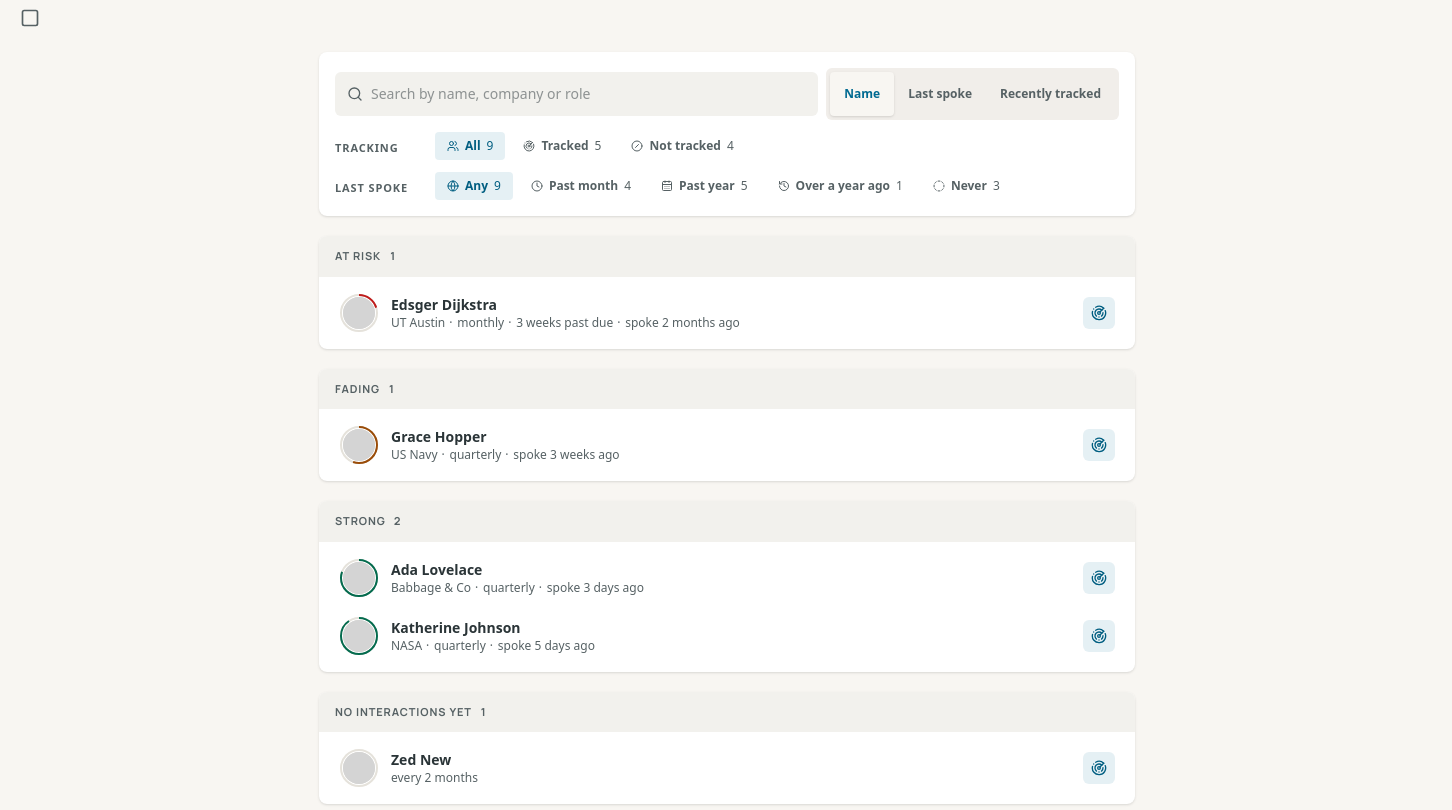
Test case: the Tracked contacts page's filters › orders by Last spoke, and keeps the order in the address
This screenshot has width=1452, height=810.
Click the radio button labelled "Last spoke" at (940, 94), box [894,72,986,116]
(page scrolled)
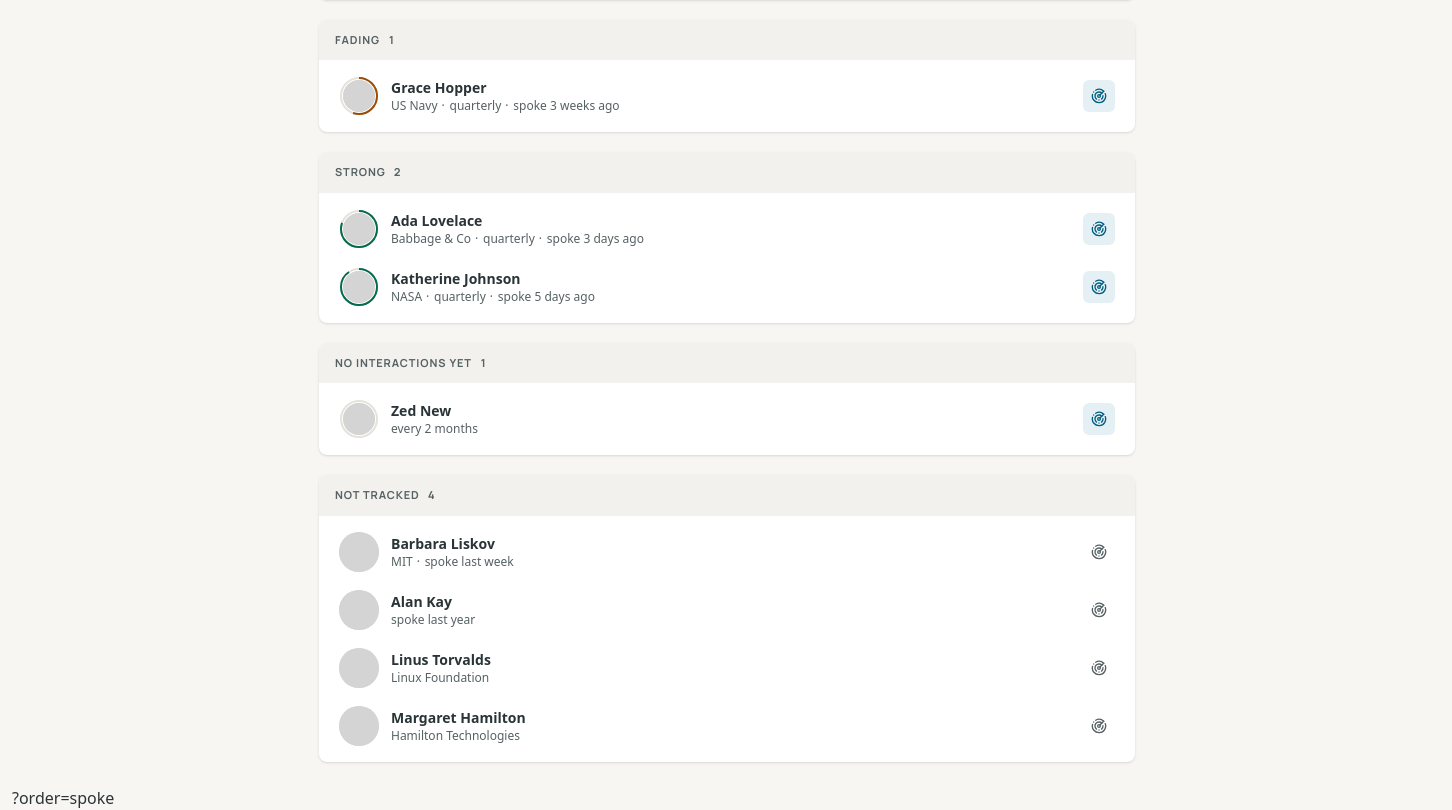
Expected: the text with test id "where" reads "?order=spoke", [12,786,114,808]
